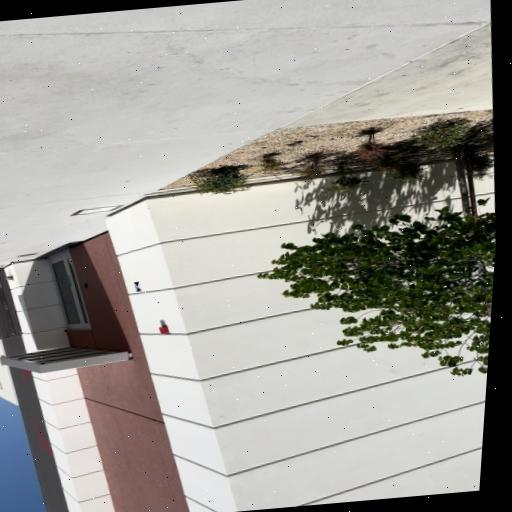target6: (133, 281, 142, 292)
